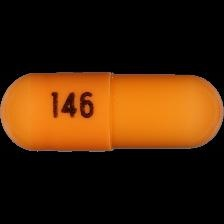62756-146: (0, 0, 224, 224)
